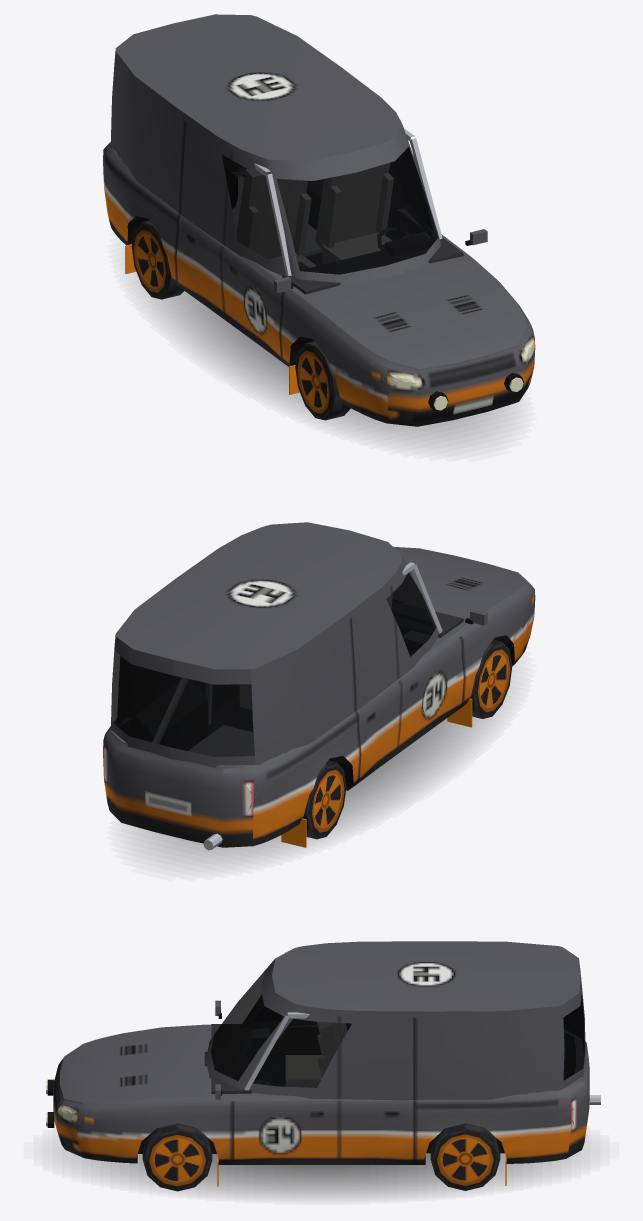
File: borralho.glb
3 renders of one model, top to bottom at view 1: azimuth 30°, elevation 25°; view 2: azimuth 150°, elevation 25°; view 3: azimuth 270°, elevation 25°, orthographic. The views are drawn at different scales.
Visible parts, largest first — view 1: Carroceria, Interior, Capo_malha, Sombra, Porta_D_malha, Porta_TD_malha, Roda_DD, Roda_TD, Porta_E_malha; view 2: Carroceria, Tampa_D_malha, Interior, Tampa_E_malha, Sombra, Porta_D_malha, Porta_TD_malha, Capo_malha, Roda_TD, Roda_DD; view 3: Carroceria, Porta_E_malha, Porta_TE_malha, Sombra, Capo_malha, Interior, Roda_DE, Roda_TE, Tampa_E_malha, Tampa_D_malha.
Boxes of the visible parts, x1,y1,x2,y2 form: Carroceria: (103, 14, 535, 426); Interior: (222, 128, 463, 294); Capo_malha: (315, 263, 531, 375); Sombra: (135, 272, 509, 446); Porta_D_malha: (221, 145, 295, 357); Porta_TD_malha: (175, 114, 232, 311); Roda_DD: (295, 341, 350, 420); Roda_TD: (131, 220, 183, 299); Porta_E_malha: (396, 125, 432, 230); Carroceria: (103, 522, 535, 850); Tampa_D_malha: (168, 660, 255, 829); Interior: (117, 562, 463, 756); Tampa_E_malha: (108, 636, 172, 817); Sombra: (133, 680, 511, 865); Porta_D_malha: (390, 559, 464, 746); Porta_TD_malha: (350, 579, 401, 778); Capo_malha: (392, 546, 531, 614); Roda_TD: (302, 760, 346, 839); Roda_DD: (470, 639, 512, 718); Carroceria: (46, 941, 600, 1186); Porta_E_malha: (232, 1005, 339, 1159); Porta_TE_malha: (339, 1010, 414, 1159); Sombra: (62, 1147, 580, 1197); Capo_malha: (64, 1027, 195, 1108); Interior: (204, 951, 575, 1093); Roda_DE: (142, 1123, 212, 1191); Roda_TE: (430, 1123, 500, 1190); Tampa_E_malha: (562, 977, 589, 1138); Tampa_D_malha: (564, 962, 589, 1073).
Bounding box in the file's own units: 2.36 × 1.76 × 5.47.
Materials: 14 (5 with a texture image).
